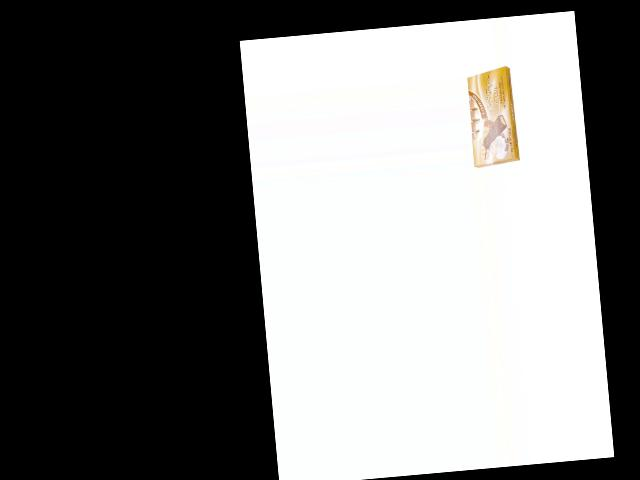chocolate: (464, 63, 520, 168)
